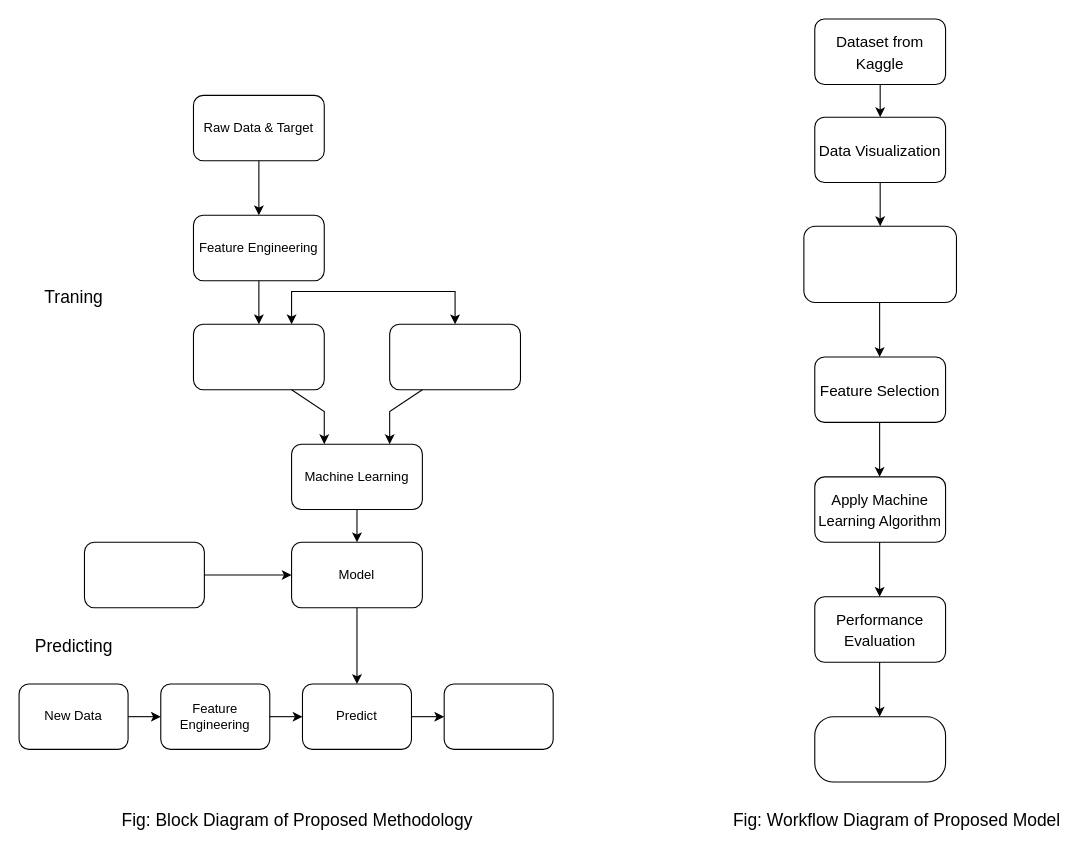
Image size: 1090x856. Some labels were removed from this diagram. Here are the shapes that lost their labels. From the top down, the centre of each, then its label:
pixel 879 263: Data Pre-processing (Missing value remove, Under sampling)
pixel 258 356: Validation Set
pixel 454 356: Traning Set
pixel 143 574: Test Set
pixel 498 716: Target
pixel 880 749: Result and Analysis (Confusion Matrix, ROC Curve)
